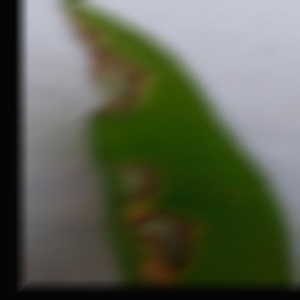Brown_Spot: (120, 210, 198, 272), (114, 140, 169, 207)
